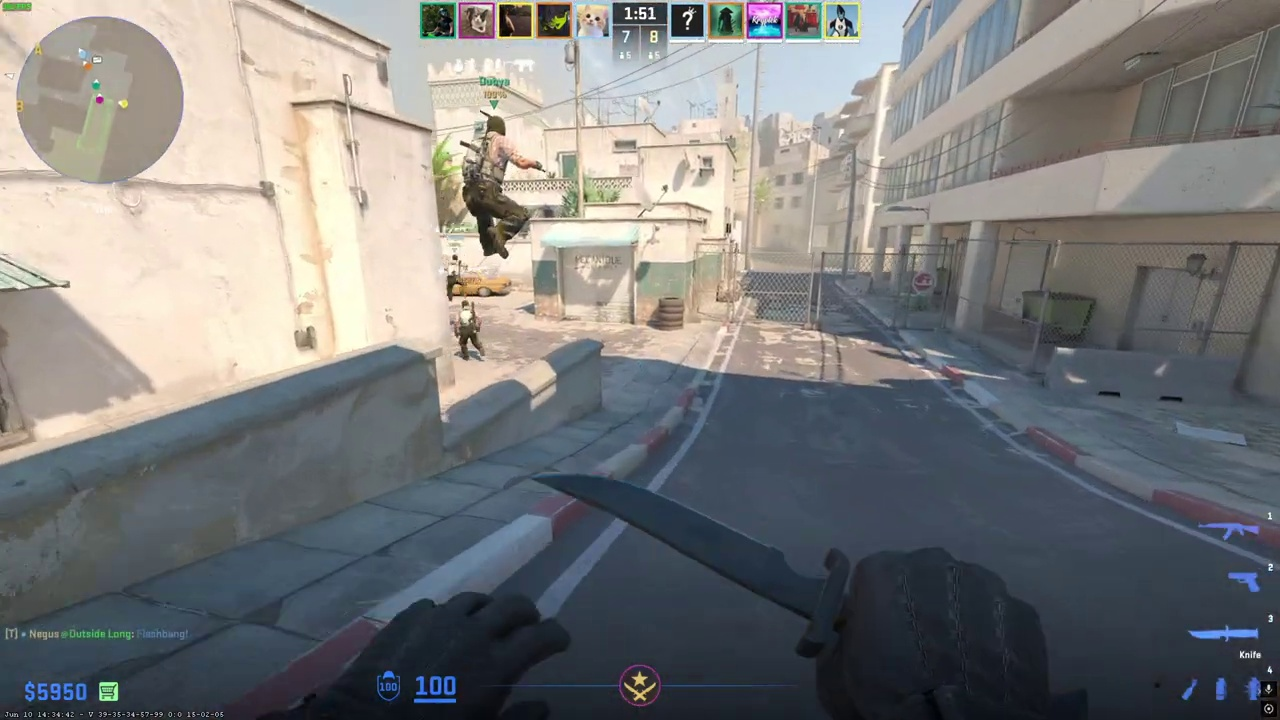Terrorist: (458, 114, 531, 259), (455, 301, 482, 361), (444, 254, 468, 302)
